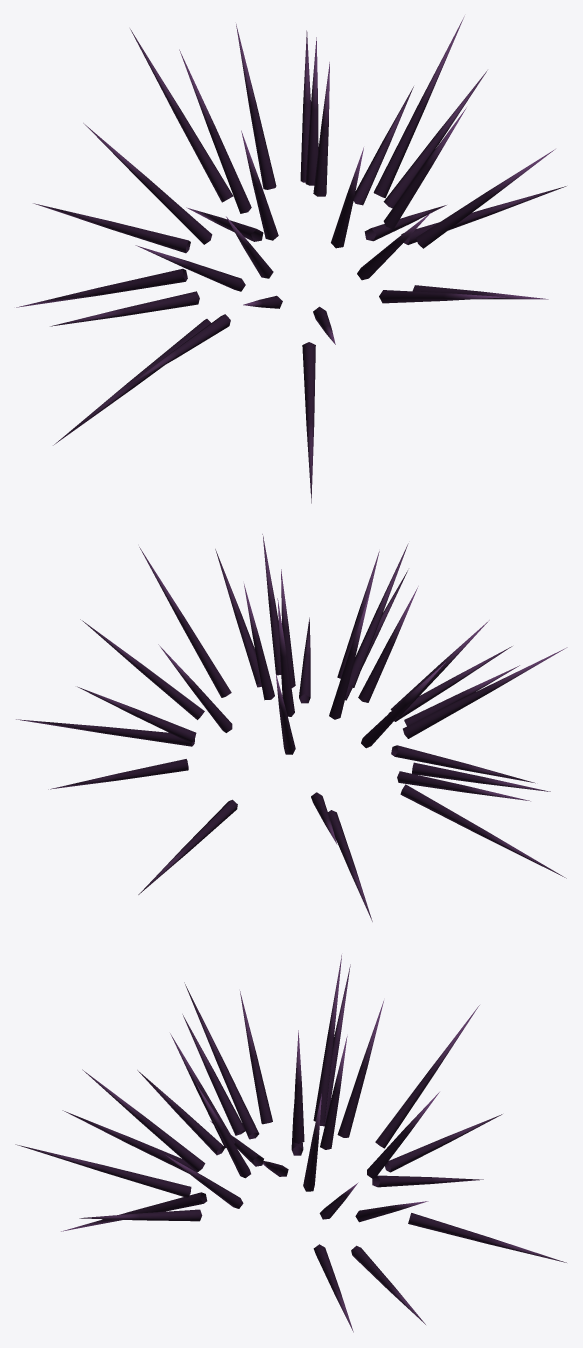
Rendered from Uni_SpineA.fbx.
3 views of the same model, one above another, from view 1: azimuth 30°, elevation 25°; view 2: azimuth 150°, elevation 25°; view 3: azimuth 270°, elevation 25° (orthographic). The views are drawn at different scales.
Parts seen in each view (by area): view 1: Uni_SpineA; view 2: Uni_SpineA; view 3: Uni_SpineA.
Part boxes in pixels (bbox=[...]): Uni_SpineA: bbox=[16, 16, 566, 503]; Uni_SpineA: bbox=[16, 534, 567, 921]; Uni_SpineA: bbox=[15, 955, 566, 1332].
Size of the model in its own units: 3.17 by 1.76 by 3.03.
